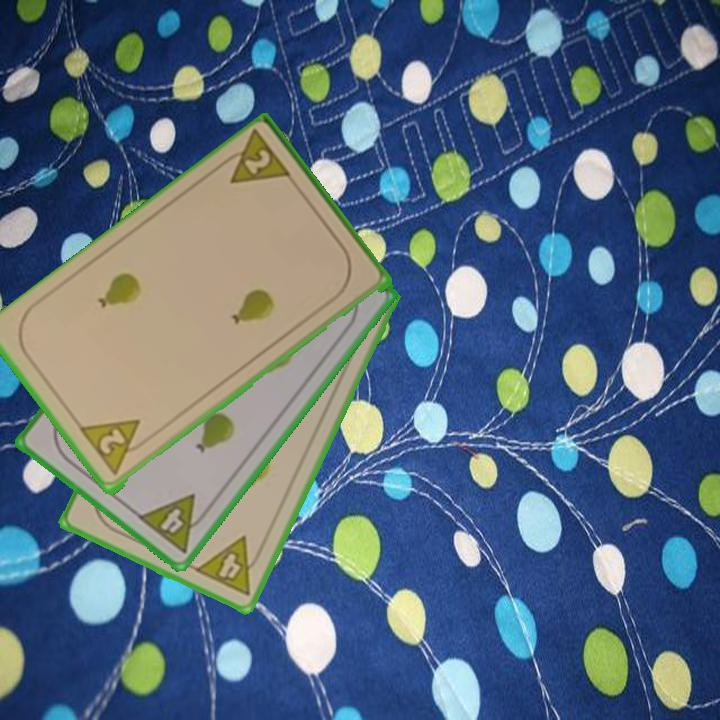2p: (77, 415, 153, 481), (214, 128, 296, 188)
4p: (134, 490, 214, 556), (191, 532, 268, 599)
